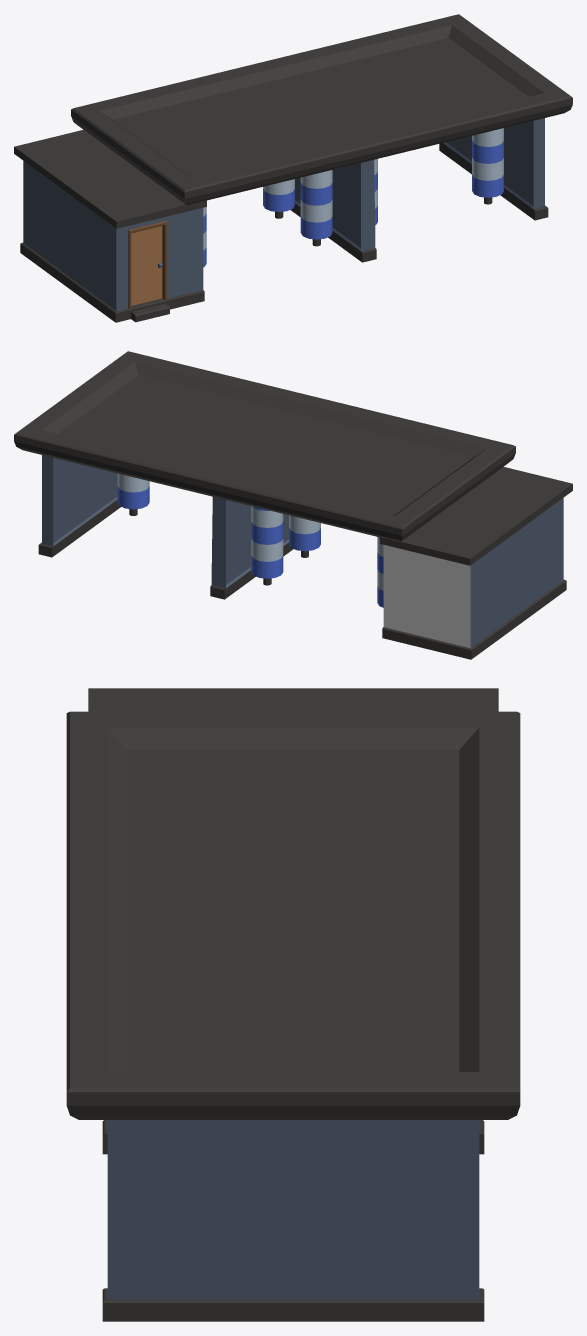
Rendered from LavaJato.M.fbx.
3 views of the same model, one above another, from view 1: azimuth 30°, elevation 25°; view 2: azimuth 150°, elevation 25°; view 3: azimuth 270°, elevation 25° (orthographic). The views are drawn at different scales.
Parts seen in each view (by area): view 1: LavaJato.M; view 2: LavaJato.M; view 3: LavaJato.M.
Part boxes in pixels (<box>): LavaJato.M: <box>14,14,572,322</box>; LavaJato.M: <box>14,351,572,659</box>; LavaJato.M: <box>66,688,520,1321</box>.
Bounding box in the file's own units: 2604 × 686 × 1134.
